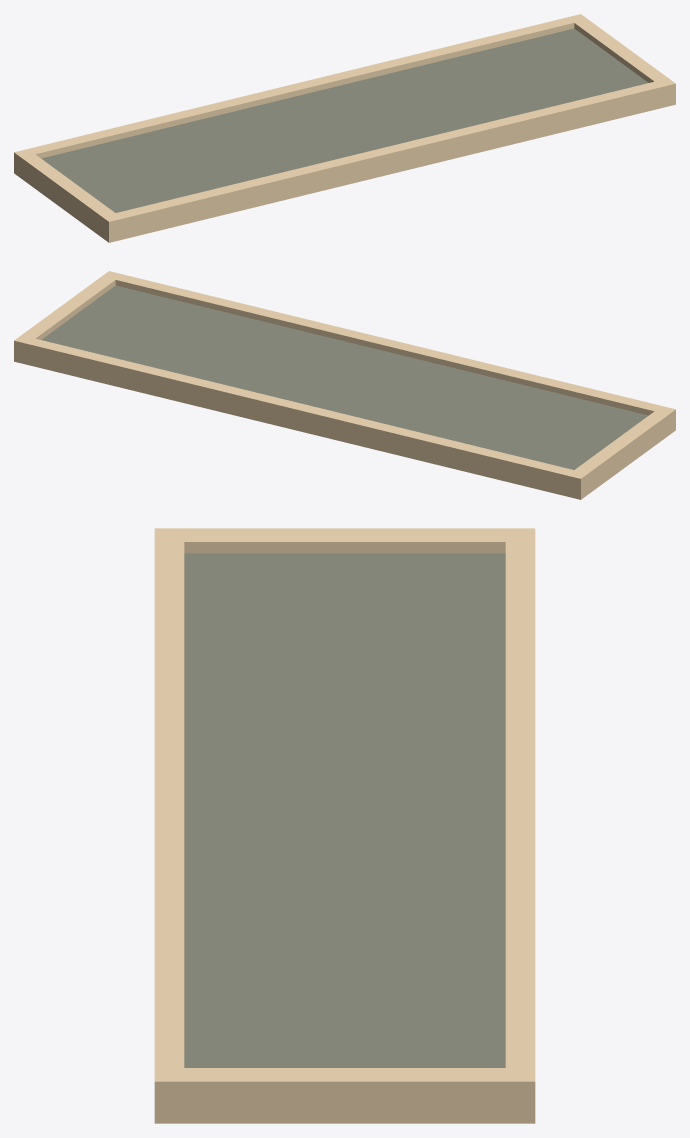
The model's file is fbx_building_3_rooftop.fbx.
The picture shows the model from 3 angles, top to bottom: view 1: azimuth 30°, elevation 25°; view 2: azimuth 150°, elevation 25°; view 3: azimuth 270°, elevation 25°; orthographic projection. The views are drawn at different scales.
Visible parts, largest first — view 1: fbx_building_3_rooftop; view 2: fbx_building_3_rooftop; view 3: fbx_building_3_rooftop.
Boxes of the visible parts, <box> form: fbx_building_3_rooftop: <box>14,14,675,242</box>; fbx_building_3_rooftop: <box>14,271,675,499</box>; fbx_building_3_rooftop: <box>154,528,535,1123</box>.
Size of the model in its own units: 16.72 by 0.5921 by 4.86.
Materials: 1 (1 with a texture image).
